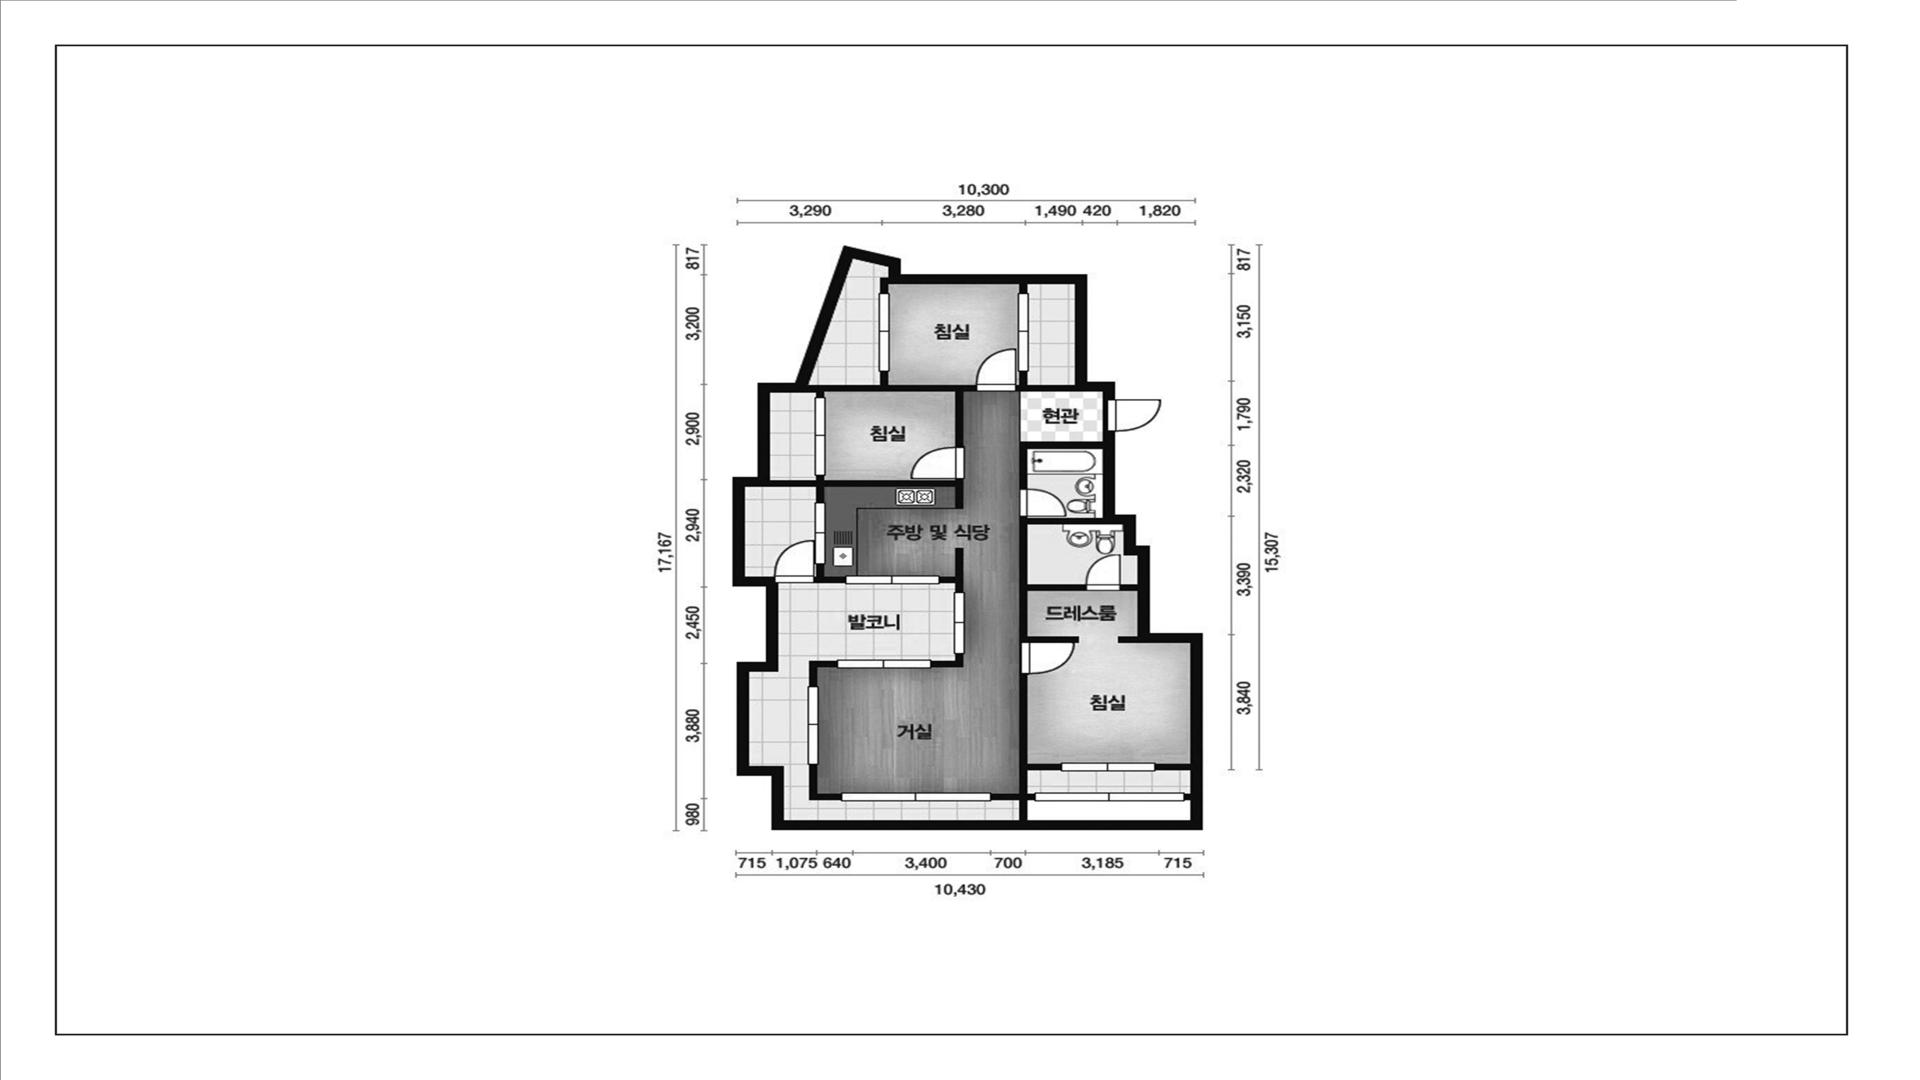door: (1102, 400, 1160, 433), (975, 348, 1017, 392), (1019, 642, 1075, 675), (910, 447, 965, 479), (1019, 488, 1067, 518), (1085, 554, 1121, 591)
wall: (733, 245, 1203, 831), (804, 372, 976, 447), (1019, 518, 1104, 644), (990, 675, 1062, 820), (769, 476, 964, 509), (1019, 442, 1102, 489), (808, 765, 841, 802), (1017, 372, 1076, 392), (939, 547, 964, 592), (808, 661, 837, 687), (815, 564, 845, 584), (931, 654, 964, 669), (1155, 764, 1191, 771), (1118, 636, 1138, 644), (880, 278, 889, 294), (1121, 584, 1138, 591), (1018, 285, 1029, 293), (1184, 793, 1191, 802)
window: (1035, 793, 1184, 802), (841, 793, 990, 802), (1060, 762, 1155, 771), (845, 575, 939, 584), (1018, 293, 1029, 372), (880, 293, 890, 372), (808, 687, 819, 765), (815, 398, 825, 476), (837, 661, 931, 669), (815, 502, 825, 564), (955, 592, 964, 654)
